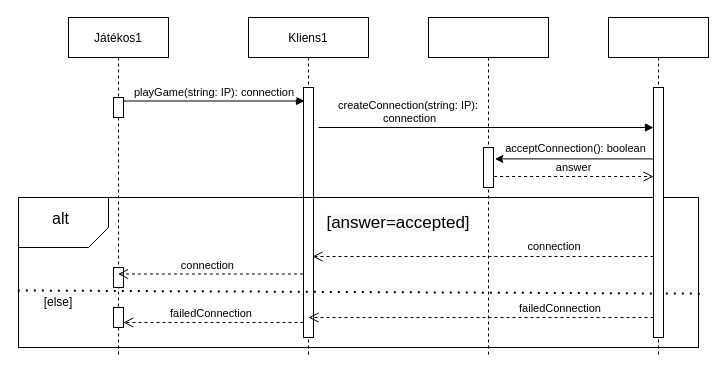
Some shapes in this 727 by 375 pixel diagram are drawn without their labels. Each missing label, with the box of its shape:
Játékos2: (428, 16, 548, 358)
Kliens2: (608, 16, 708, 358)
